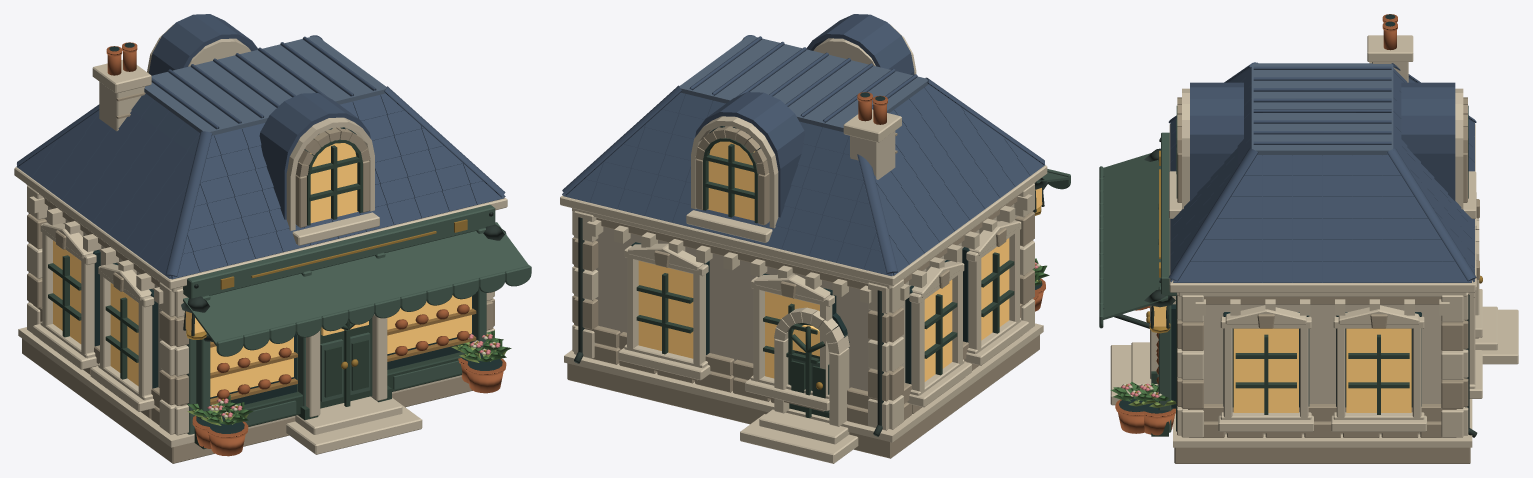
3 views of the same model, side by side, from view 1: azimuth 30°, elevation 25°; view 2: azimuth 150°, elevation 25°; view 3: azimuth 270°, elevation 25° (orthographic). The views are drawn at different scales.
Parts seen in each view (by area): view 1: classic_shop_1_geometry, classic_shop_1_geometry ceramic; view 2: classic_shop_1_geometry, classic_shop_1_geometry ceramic; view 3: classic_shop_1_geometry, classic_shop_1_geometry ceramic.
Part boxes in pixels (left/top/right/bottom): classic_shop_1_geometry: left=14, top=24, right=531, bottom=463; classic_shop_1_geometry ceramic: left=16, top=14, right=505, bottom=279; classic_shop_1_geometry: left=560, top=24, right=1070, bottom=463; classic_shop_1_geometry ceramic: left=562, top=14, right=1044, bottom=276; classic_shop_1_geometry: left=1099, top=14, right=1518, bottom=463; classic_shop_1_geometry ceramic: left=1168, top=62, right=1476, bottom=282.
Bounding box in the file's own units: 0.8873 × 0.78 × 0.9375.
